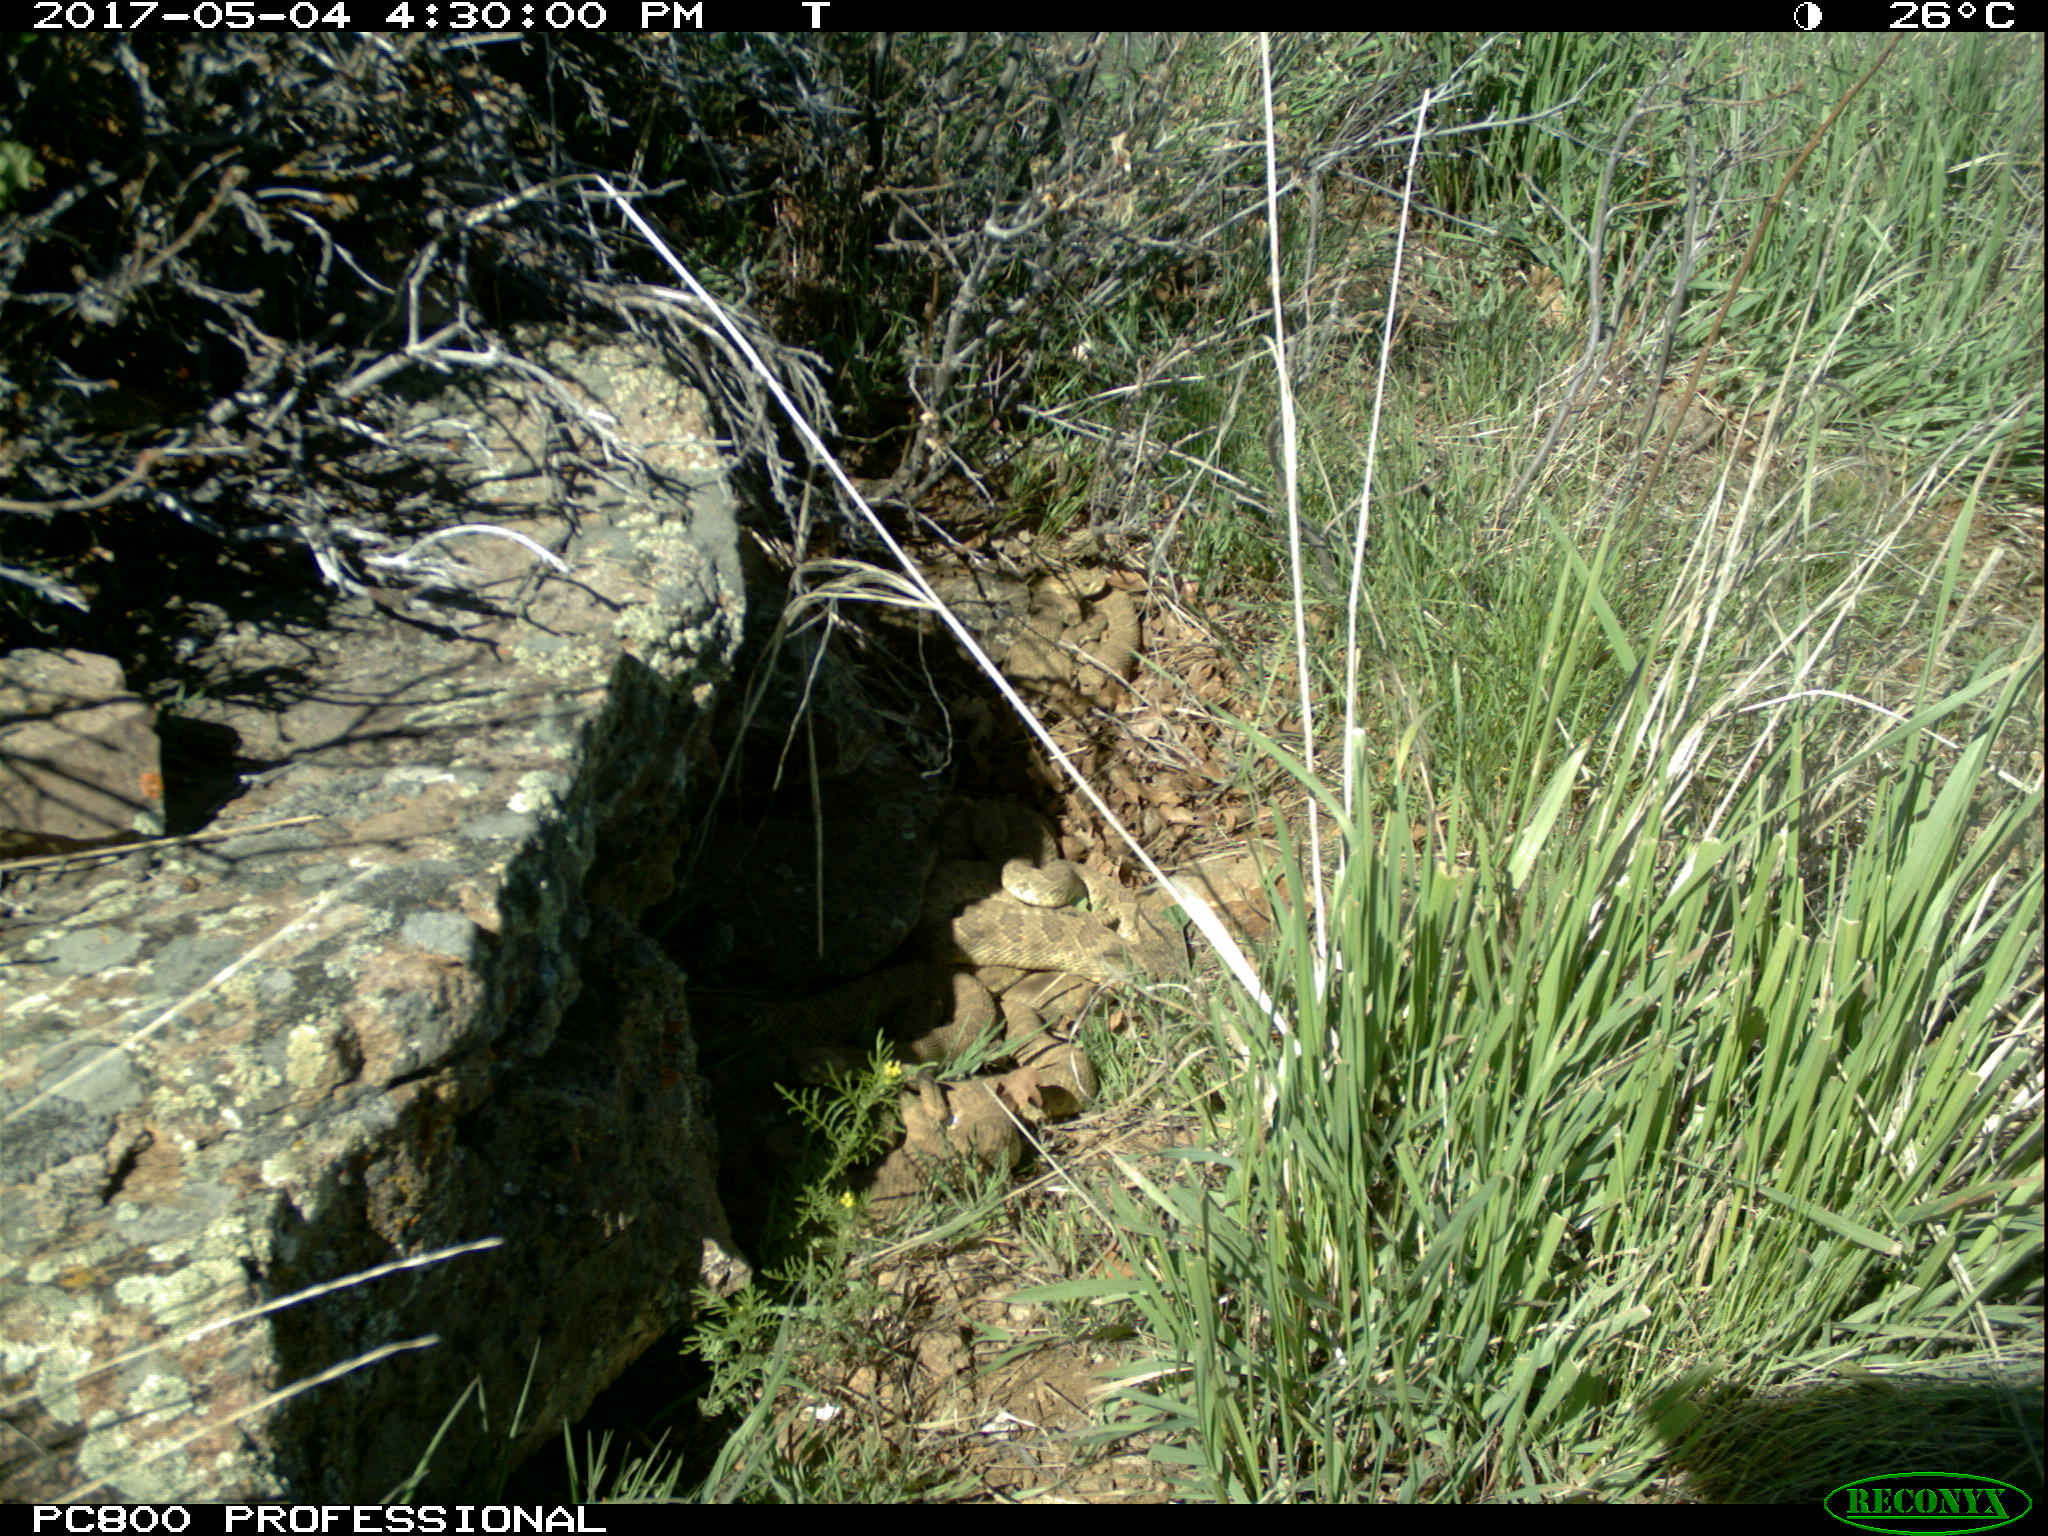snake: (914, 862, 1171, 1168), (1006, 568, 1164, 697)
